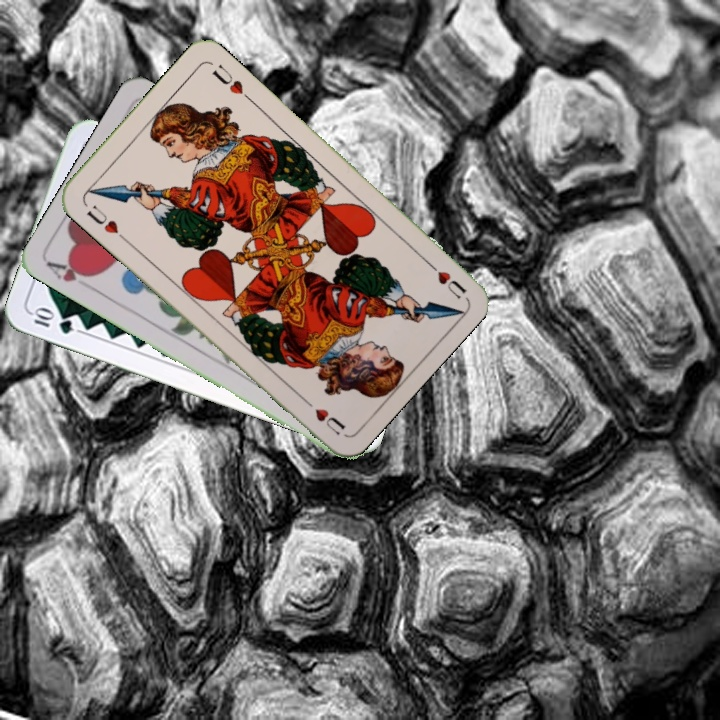G10: (28, 304, 77, 337)
HA: (43, 257, 98, 293)
HU: (420, 255, 470, 302), (82, 201, 121, 236)
